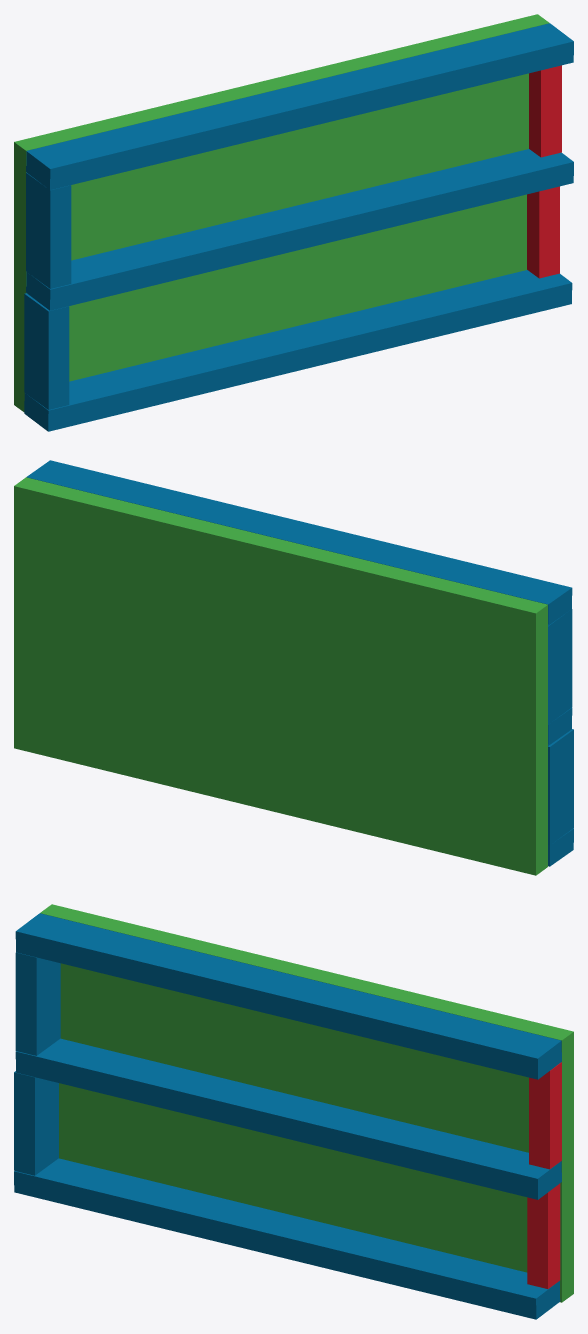
Rendered from tinker.obj.
3 views of the same model, one above another, from view 1: azimuth 30°, elevation 25°; view 2: azimuth 150°, elevation 25°; view 3: azimuth 330°, elevation 25° (orthographic).
Visible parts, largest first — view 1: obj_0, obj_1, obj_4, obj_3, obj_2, obj_5, obj_6, obj_7, obj_8; view 2: obj_0, obj_1, obj_4, obj_5, obj_6, obj_3, obj_2; view 3: obj_0, obj_1, obj_4, obj_3, obj_2, obj_6, obj_5, obj_8, obj_7.
Part boxes in pixels (x1,y1,x2,y2): obj_0: (14,14,549,281); obj_1: (14,194,526,411); obj_4: (26,23,573,189); obj_3: (24,270,572,431); obj_2: (26,149,573,310); obj_5: (24,293,69,409); obj_6: (26,172,71,288); obj_7: (529,65,561,157); obj_8: (527,186,559,278); obj_0: (14,477,547,744); obj_1: (14,617,547,875); obj_4: (26,460,572,625); obj_5: (548,729,573,845); obj_6: (548,609,572,724); obj_3: (548,828,573,866); obj_2: (548,707,572,745); obj_0: (40,904,573,1171); obj_1: (59,1083,573,1302); obj_4: (15,913,561,1079); obj_3: (14,1158,560,1319); obj_2: (15,1038,561,1199); obj_6: (15,952,60,1055); obj_5: (14,1071,58,1175); obj_8: (527,1183,560,1288); obj_7: (529,1062,561,1169).
Size of the model in its own units: 301 by 144 by 36.
